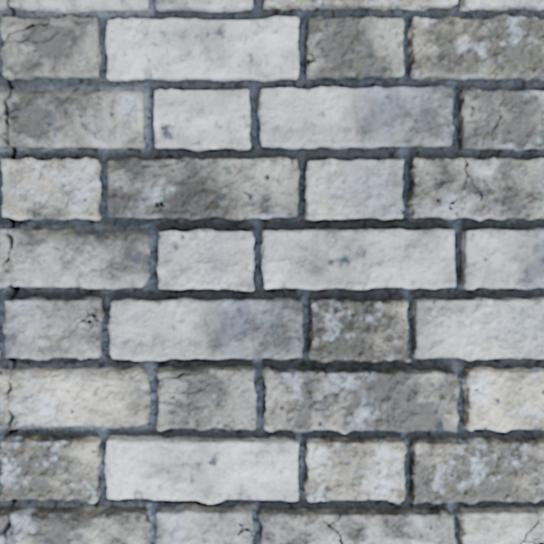brick: (263, 367, 458, 432), (106, 436, 297, 502), (106, 16, 297, 80), (107, 157, 298, 219), (258, 86, 452, 147), (109, 298, 302, 359), (261, 229, 454, 288), (407, 15, 543, 80), (409, 438, 543, 502), (407, 158, 543, 219), (412, 297, 543, 359), (259, 507, 455, 543), (0, 436, 100, 502), (304, 438, 405, 503), (157, 365, 255, 430), (0, 16, 100, 78), (3, 297, 104, 358), (309, 300, 408, 361), (306, 17, 403, 79), (2, 158, 100, 219), (305, 159, 402, 219), (157, 230, 253, 289), (155, 90, 249, 150), (458, 88, 543, 149), (463, 367, 543, 430), (461, 229, 543, 288), (155, 504, 253, 543), (458, 507, 543, 543), (264, 0, 456, 9), (156, 0, 251, 11), (460, 0, 543, 9), (231, 532, 251, 543)
broken_brick: (0, 366, 150, 429), (0, 228, 150, 289), (8, 89, 145, 149), (8, 504, 150, 543), (10, 0, 149, 13), (0, 504, 10, 543), (0, 86, 7, 114), (0, 136, 9, 148), (0, 0, 7, 10), (0, 121, 2, 133)
crack: (0, 79, 30, 160), (448, 157, 486, 211), (1, 19, 59, 47), (67, 310, 103, 339), (1, 497, 17, 543), (158, 383, 210, 396), (158, 367, 203, 381), (322, 514, 343, 543), (4, 356, 18, 398), (519, 519, 543, 543), (227, 522, 253, 543), (142, 158, 186, 168), (4, 407, 19, 436), (4, 0, 16, 17), (8, 283, 19, 300), (306, 52, 317, 67), (9, 216, 16, 230), (308, 17, 325, 22), (446, 124, 453, 131), (297, 337, 303, 344), (399, 208, 403, 215)
